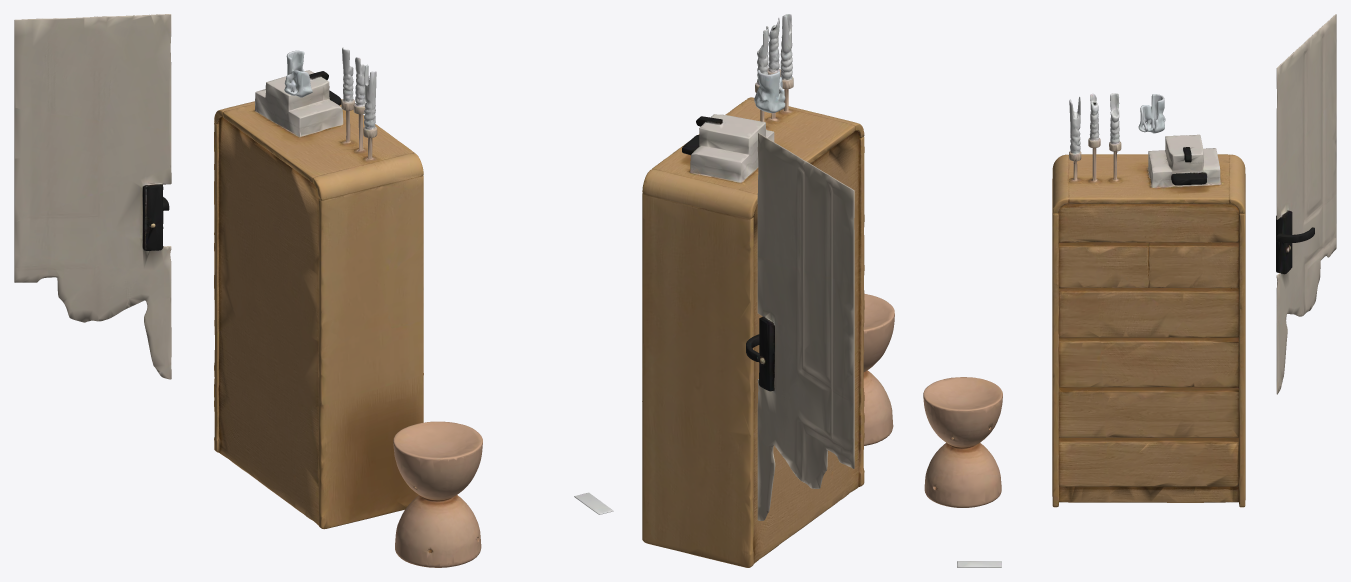
The model's file is B0F48KPZXD.glb.
3 renders of one model, left to right at view 1: azimuth 30°, elevation 25°; view 2: azimuth 150°, elevation 25°; view 3: azimuth 270°, elevation 25°, orthographic. The views are drawn at different scales.
Parts seen in each view (by area): view 1: tripo_node_eadda24e-59c0-4389-a782-0bf9975ad40e; view 2: tripo_node_eadda24e-59c0-4389-a782-0bf9975ad40e; view 3: tripo_node_eadda24e-59c0-4389-a782-0bf9975ad40e.
Boxes of the visible parts, <box> form: tripo_node_eadda24e-59c0-4389-a782-0bf9975ad40e: <box>14,14,613,567</box>; tripo_node_eadda24e-59c0-4389-a782-0bf9975ad40e: <box>642,14,894,567</box>; tripo_node_eadda24e-59c0-4389-a782-0bf9975ad40e: <box>923,14,1336,567</box>.
Size of the model in its own units: 0.9161 by 1 by 0.9466.
Materials: 1 (1 with a texture image).
